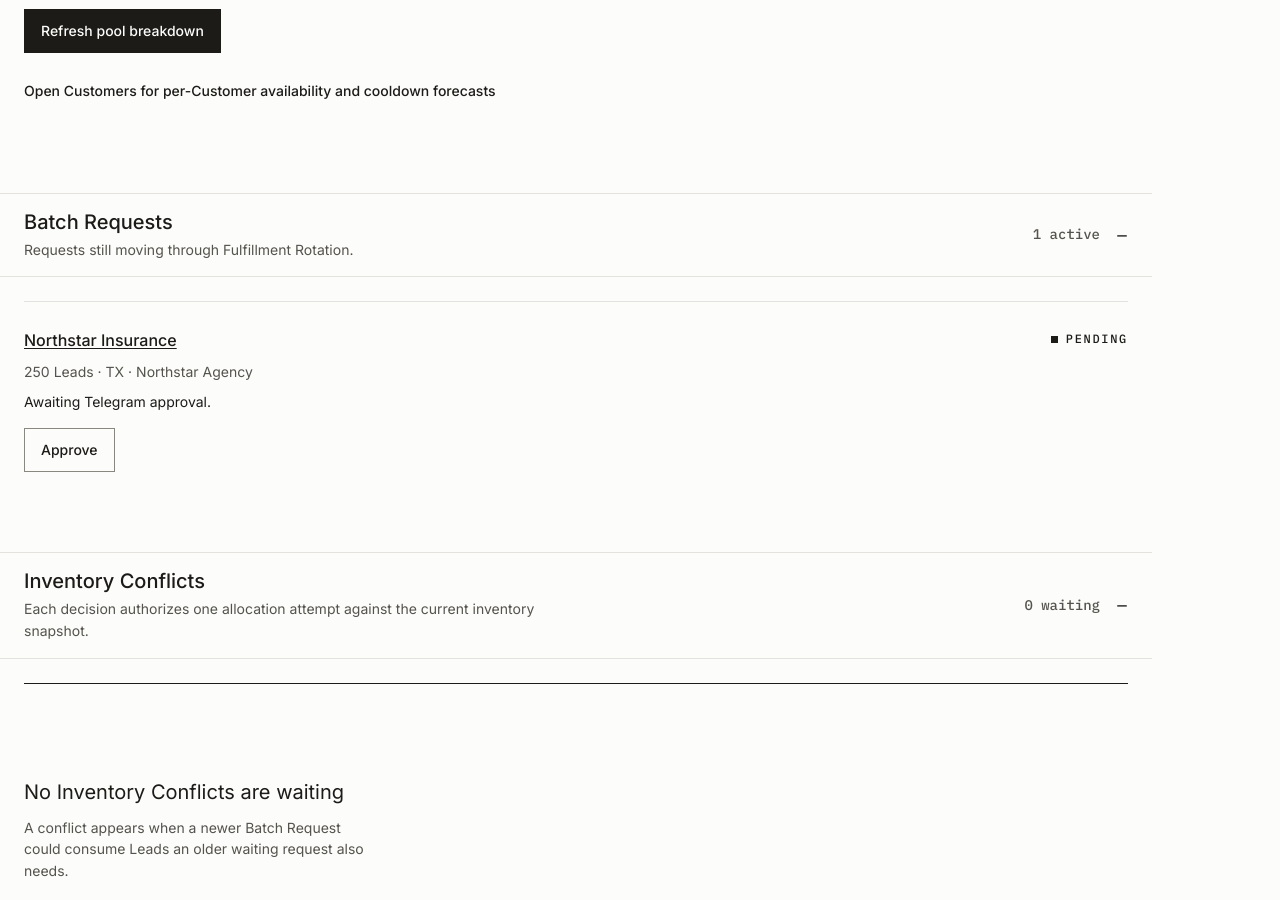
confirming a consequential action › surfaces a refused action without losing the dialog
(page scrolled)
Step 1. Click the button "Approve" → (69, 450), box [24, 428, 115, 472]
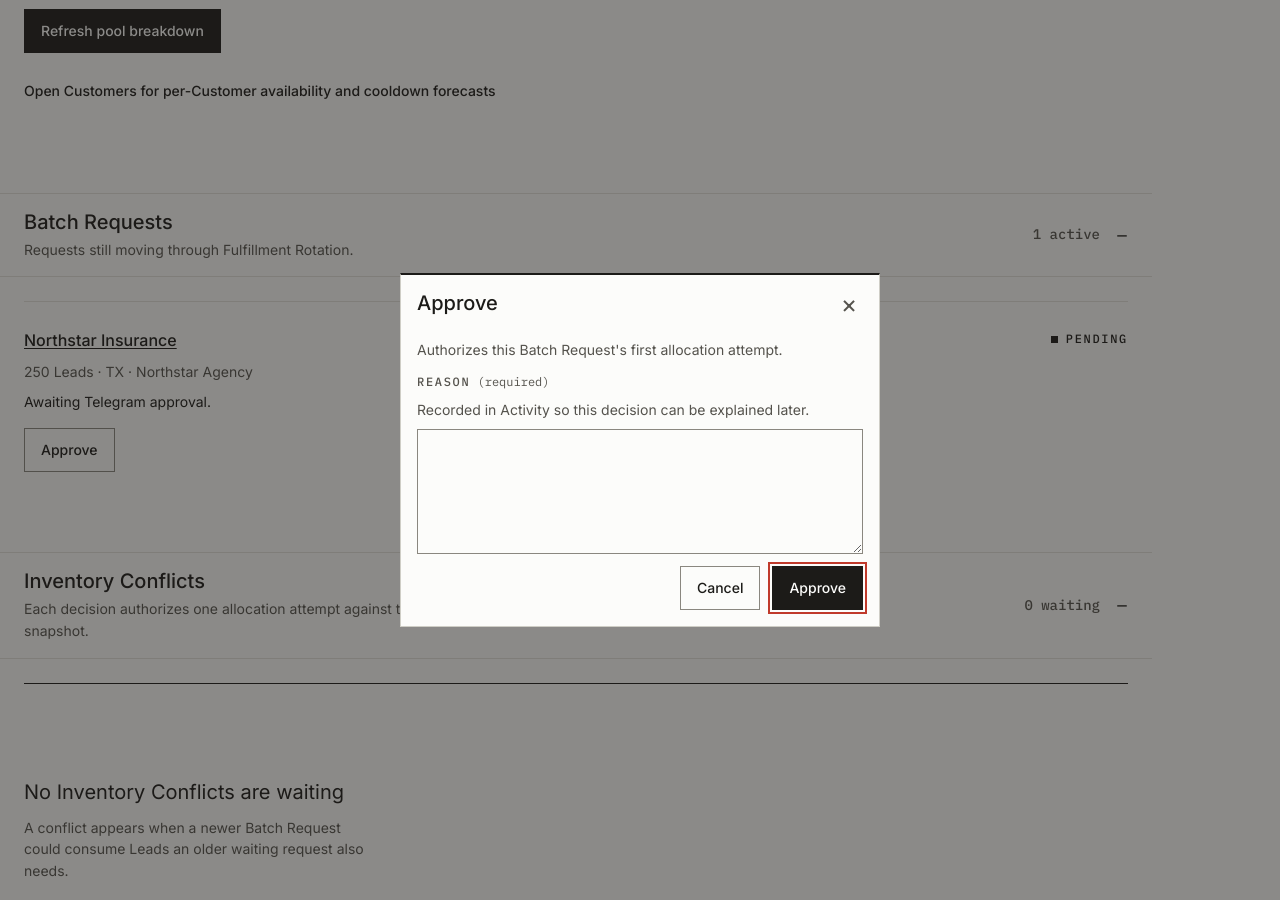
Step 2. Type "Stale view." into the text box labelled "Reason (required)" → (640, 492), box [417, 429, 863, 554]
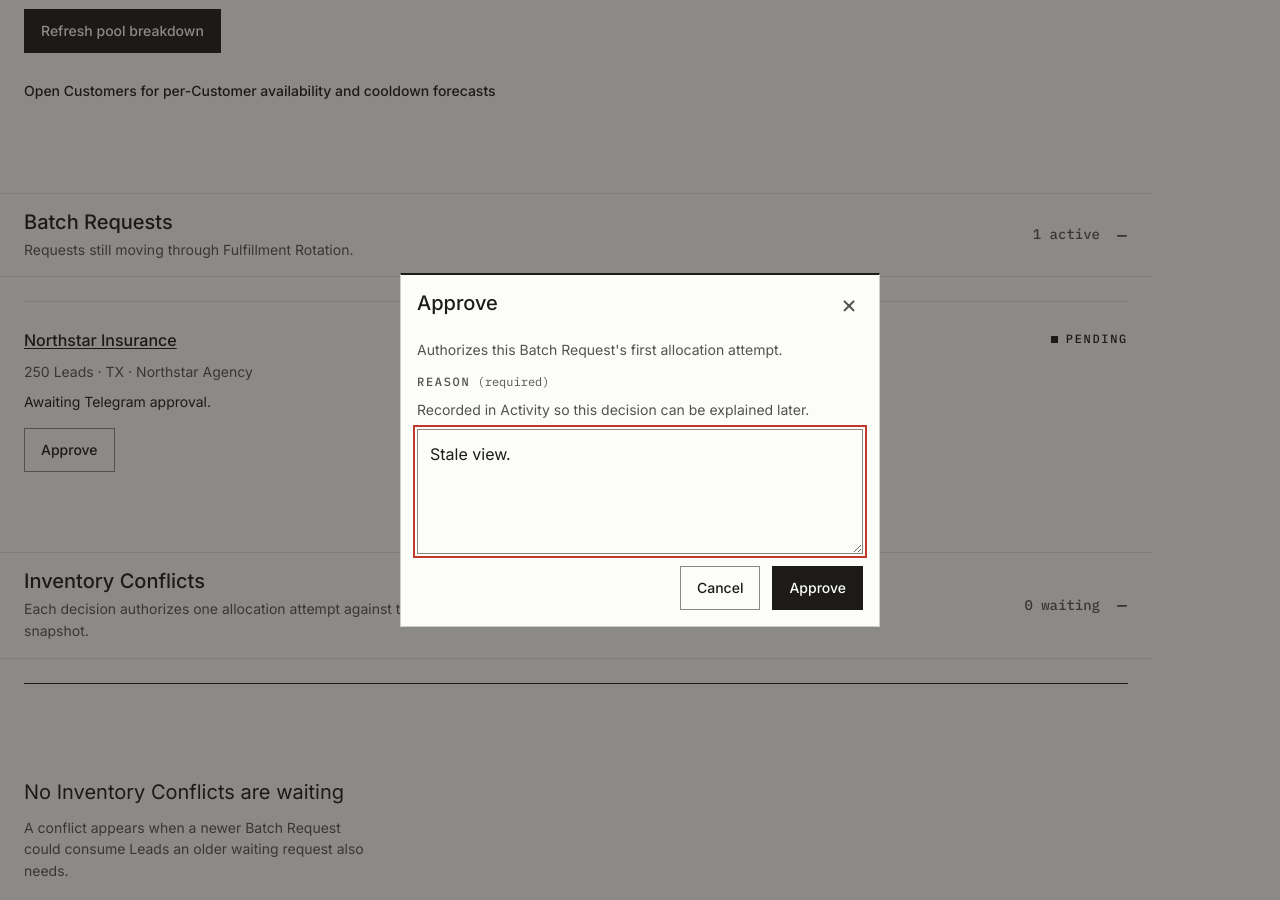
Step 3. Click the button "Approve" → (818, 588), box [772, 566, 863, 610]
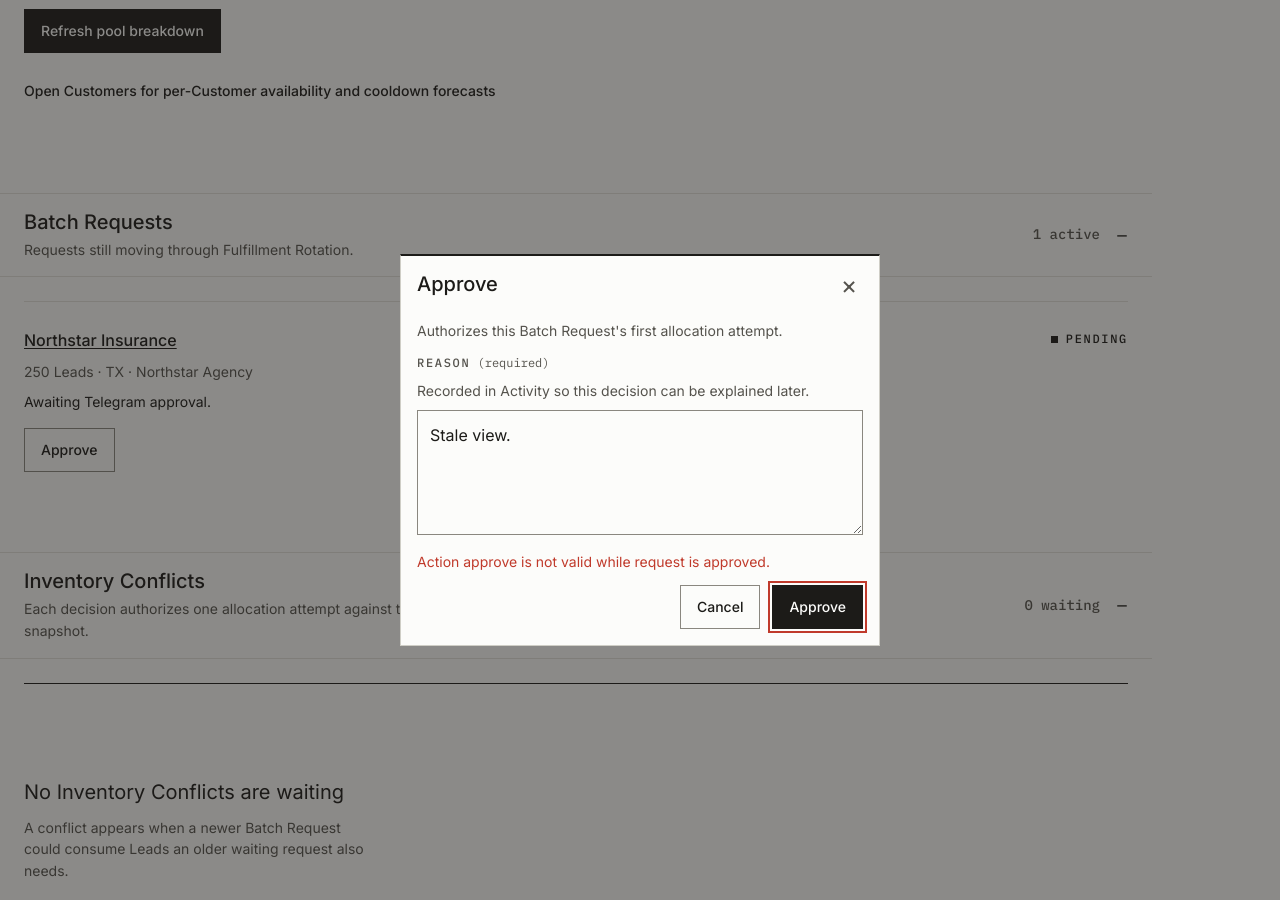
Result: the text "Action approve is not valid while request is approved." is shown at [417, 553, 770, 570]
